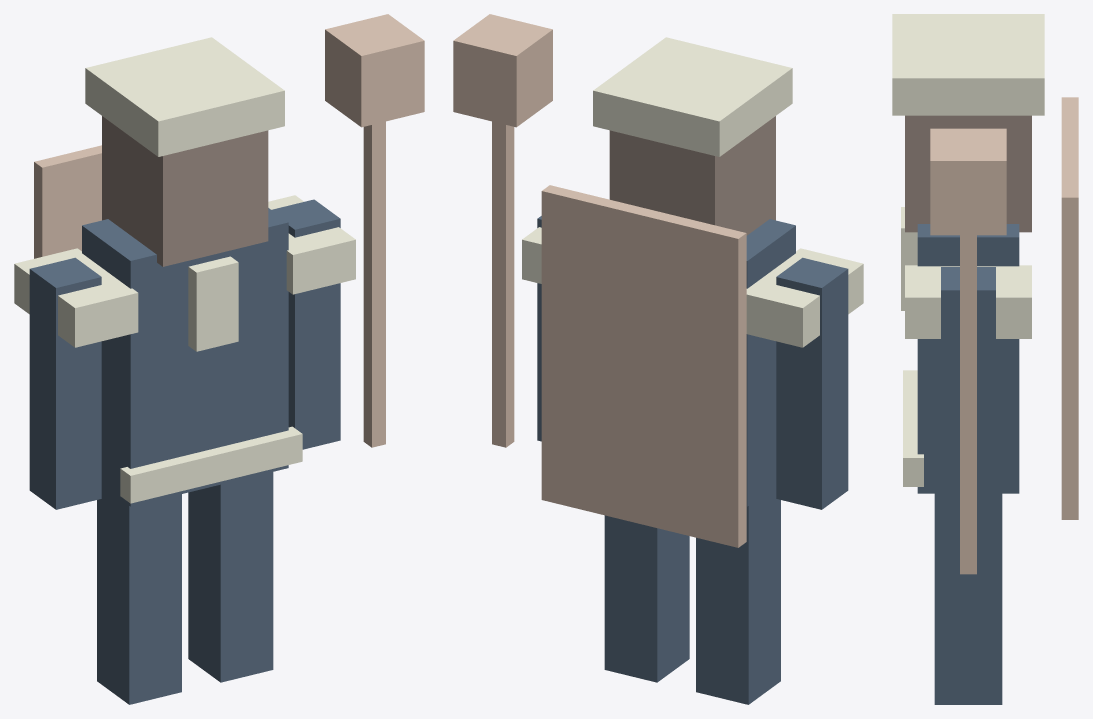
Rendered from 11_zerin_signalborn_keeper_near_surface.glb.
The picture shows the model from 3 angles, left to right: view 1: azimuth 30°, elevation 25°; view 2: azimuth 150°, elevation 25°; view 3: azimuth 270°, elevation 25°; orthographic projection. The views are drawn at different scales.
Parts seen in each view (by area): view 1: Zerin Signalborn, Keeper near Surface; view 2: Zerin Signalborn, Keeper near Surface; view 3: Zerin Signalborn, Keeper near Surface.
Part boxes in pixels (bbox=[...]): Zerin Signalborn, Keeper near Surface: bbox=[14, 14, 424, 704]; Zerin Signalborn, Keeper near Surface: bbox=[453, 14, 863, 704]; Zerin Signalborn, Keeper near Surface: bbox=[892, 14, 1078, 704].
Bounding box in the file's own units: 1.07 × 1.67 × 0.453.
